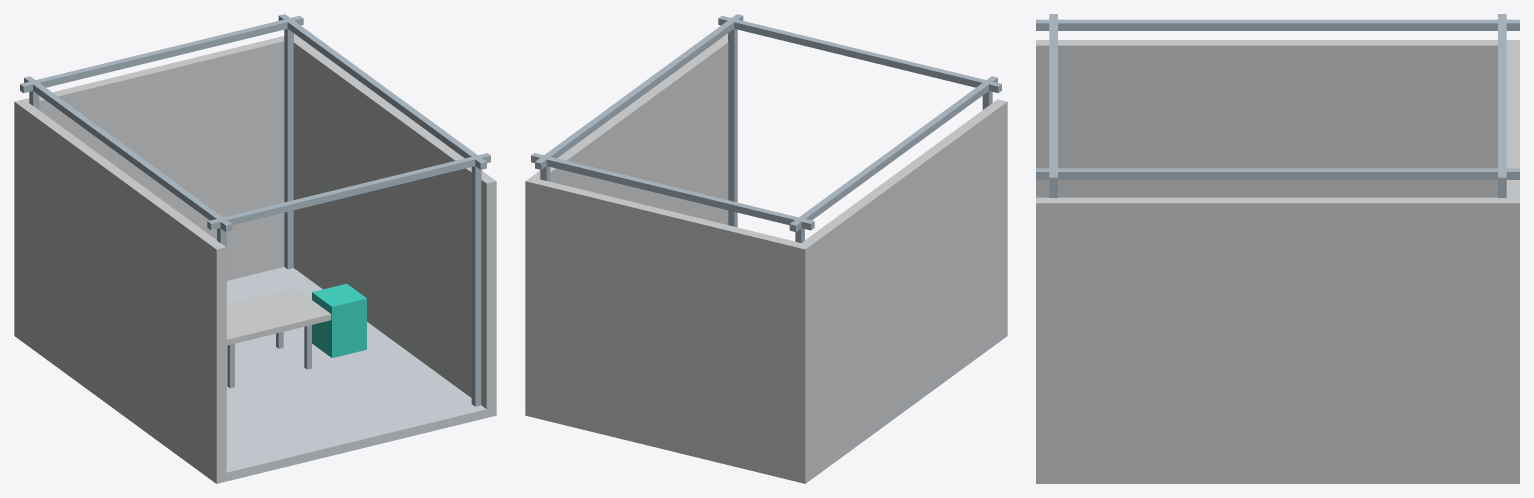
The picture shows the model from 3 angles, left to right: view 1: azimuth 30°, elevation 25°; view 2: azimuth 150°, elevation 25°; view 3: azimuth 270°, elevation 25°; orthographic projection. The views are drawn at different scales.
Parts seen in each view (by area): view 1: Exhibition Booth Concept; view 2: Exhibition Booth Concept; view 3: Exhibition Booth Concept.
Part boxes in pixels (x1,y1,x2,y2): Exhibition Booth Concept: (14, 14, 496, 483); Exhibition Booth Concept: (525, 14, 1007, 483); Exhibition Booth Concept: (1036, 14, 1519, 483).
Bounding box in the file's own units: 4 × 3.49 × 5.
